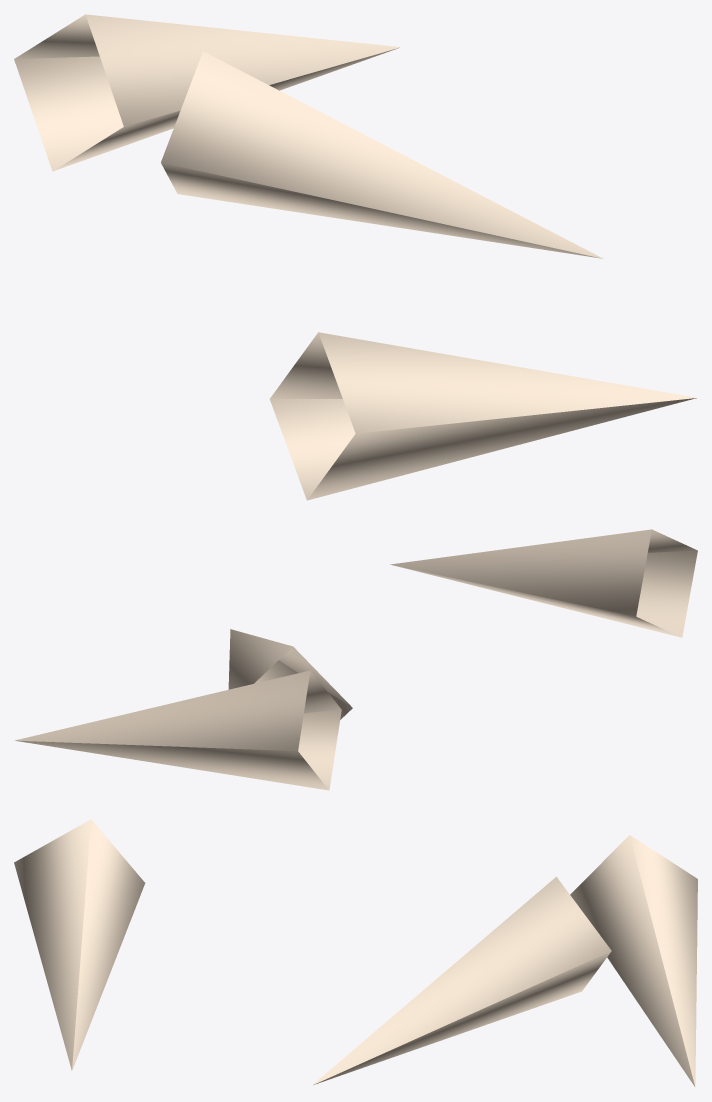
3 views of the same model, one above another, from view 1: azimuth 30°, elevation 25°; view 2: azimuth 150°, elevation 25°; view 3: azimuth 270°, elevation 25° (orthographic). The views are drawn at different scales.
Parts seen in each view (by area): view 1: Object50; view 2: Object50; view 3: Object50.
Part boxes in pixels (x1,y1,x2,y2): Object50: (14,14,697,500); Object50: (15,529,697,790); Object50: (14,819,697,1086).
Bounding box in the file's own units: 93.39 × 33.4 × 143.
